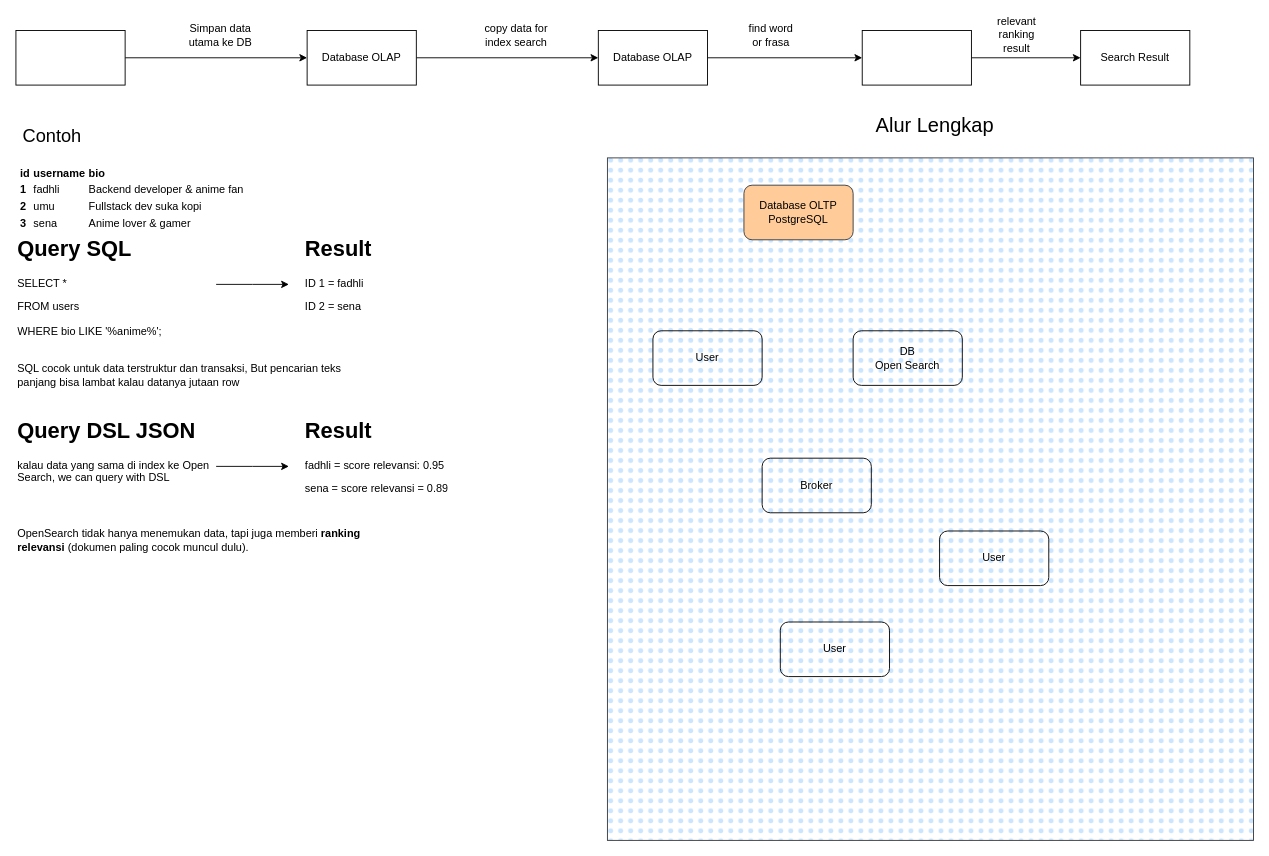
Image size: 1269x856. Some labels were removed from this diagram. Each missing label, with the box of its shape:
Query DSL / API: (861, 30, 971, 85)
User Input or POST: (15, 30, 125, 85)
